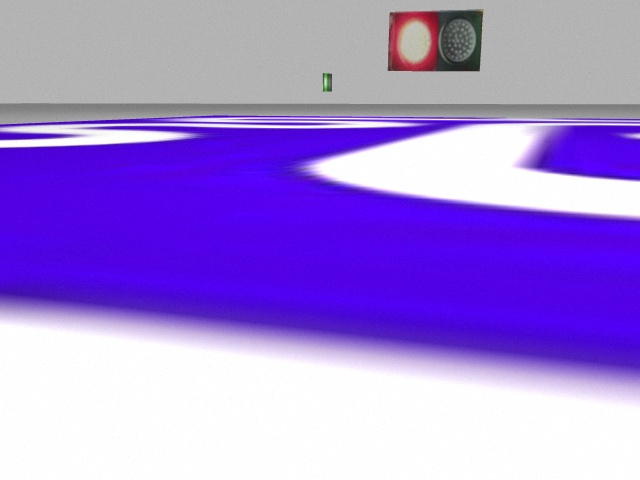red: (389, 10, 438, 70)
